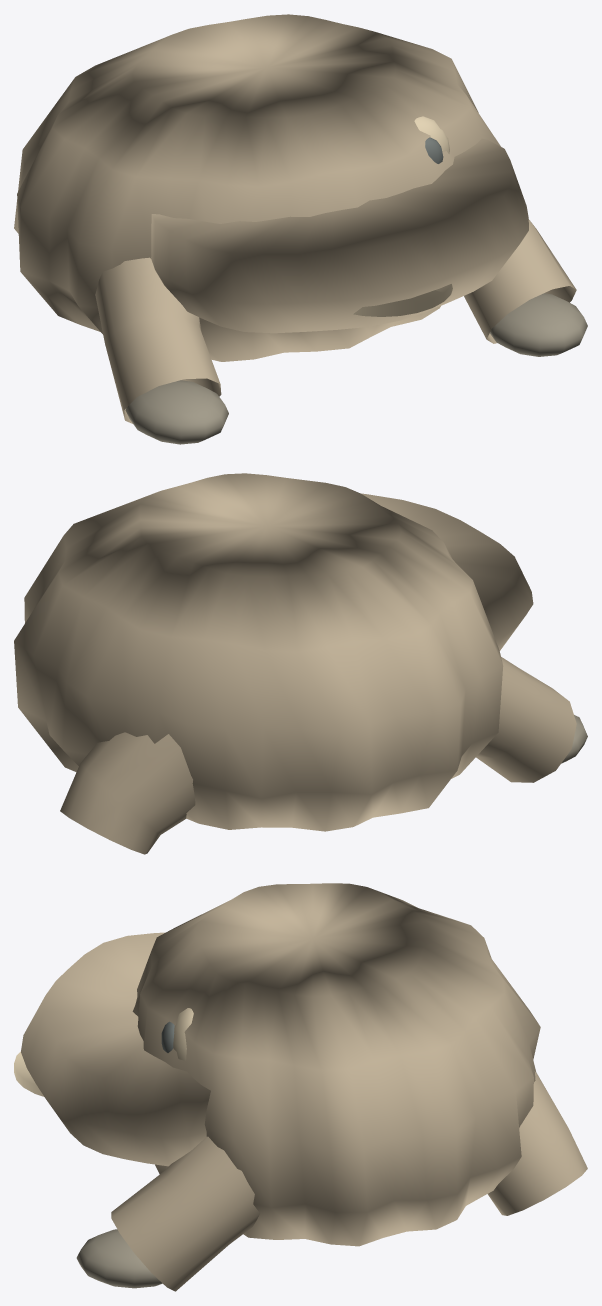
Rendered from toad_v2.glb.
The picture shows the model from 3 angles, top to bottom: view 1: azimuth 30°, elevation 25°; view 2: azimuth 150°, elevation 25°; view 3: azimuth 270°, elevation 25°; orthographic projection.
Parts seen in each view (by area): view 1: toadBody, toadHead, toadLegL, toadLegR, toadToeL, toadToeR, toadCoin, ringR; view 2: toadBody, toadHind, toadLegL, toadHead; view 3: toadBody, toadHead, toadLegR, toadHind, toadToeR, ringR, toadCoin.
Part boxes in pixels (box(x1,y1,x2,y2)): toadBody: box(14, 14, 500, 361); toadHead: box(151, 138, 528, 333); toadLegL: box(95, 257, 221, 423); toadLegR: box(464, 219, 576, 343); toadToeL: box(125, 380, 228, 444); toadToeR: box(490, 293, 587, 356); toadCoin: box(353, 284, 452, 316); ringR: box(414, 116, 449, 153); toadBody: box(14, 473, 503, 831); toadHind: box(60, 732, 195, 854); toadLegL: box(476, 657, 576, 782); toadHead: box(361, 493, 533, 650); toadBody: box(132, 883, 540, 1246); toadHead: box(21, 932, 210, 1166); toadLegR: box(111, 1136, 259, 1291); toadHind: box(487, 1071, 587, 1215); toadToeR: box(76, 1229, 162, 1288); ringR: box(173, 1008, 193, 1060); toadCoin: box(14, 1051, 43, 1096).
Size of the model in its own units: 1.15 by 0.6488 by 1.29.
